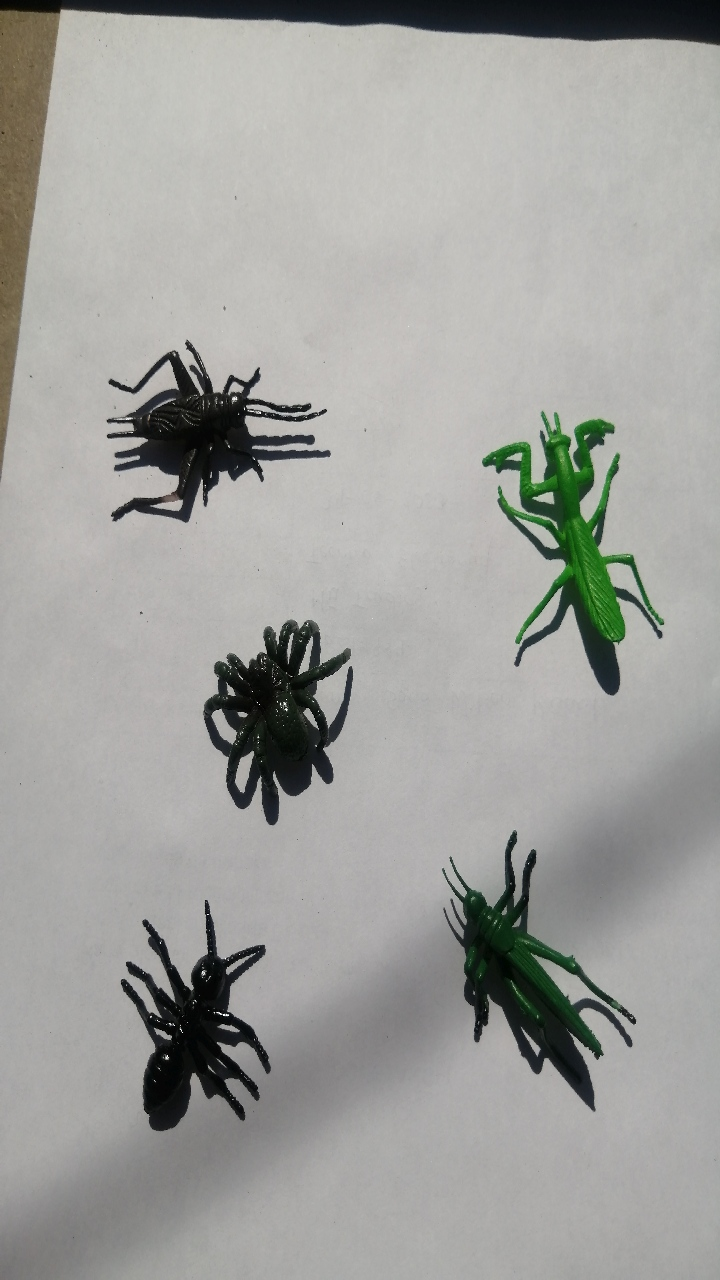intruso: (392, 788, 660, 1117), (446, 374, 675, 682), (57, 312, 349, 534), (149, 580, 381, 845), (83, 882, 312, 1148)
